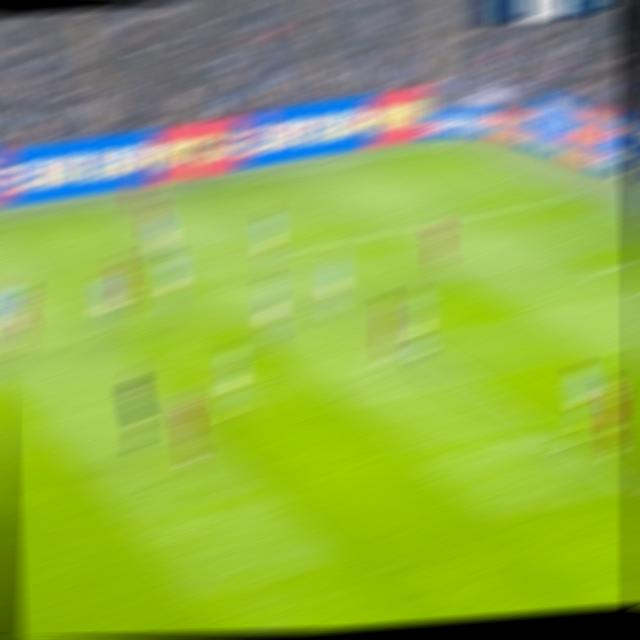bigarea_top_inner: (279, 247, 300, 261)
bigarea_top_outter: (558, 190, 582, 203)
bottom_arc_area_intersection: (550, 435, 583, 453)
corner: (434, 137, 462, 150)
smallarea_top_inner: (585, 268, 610, 281)
top_arc_area_intersection: (387, 325, 406, 334)
